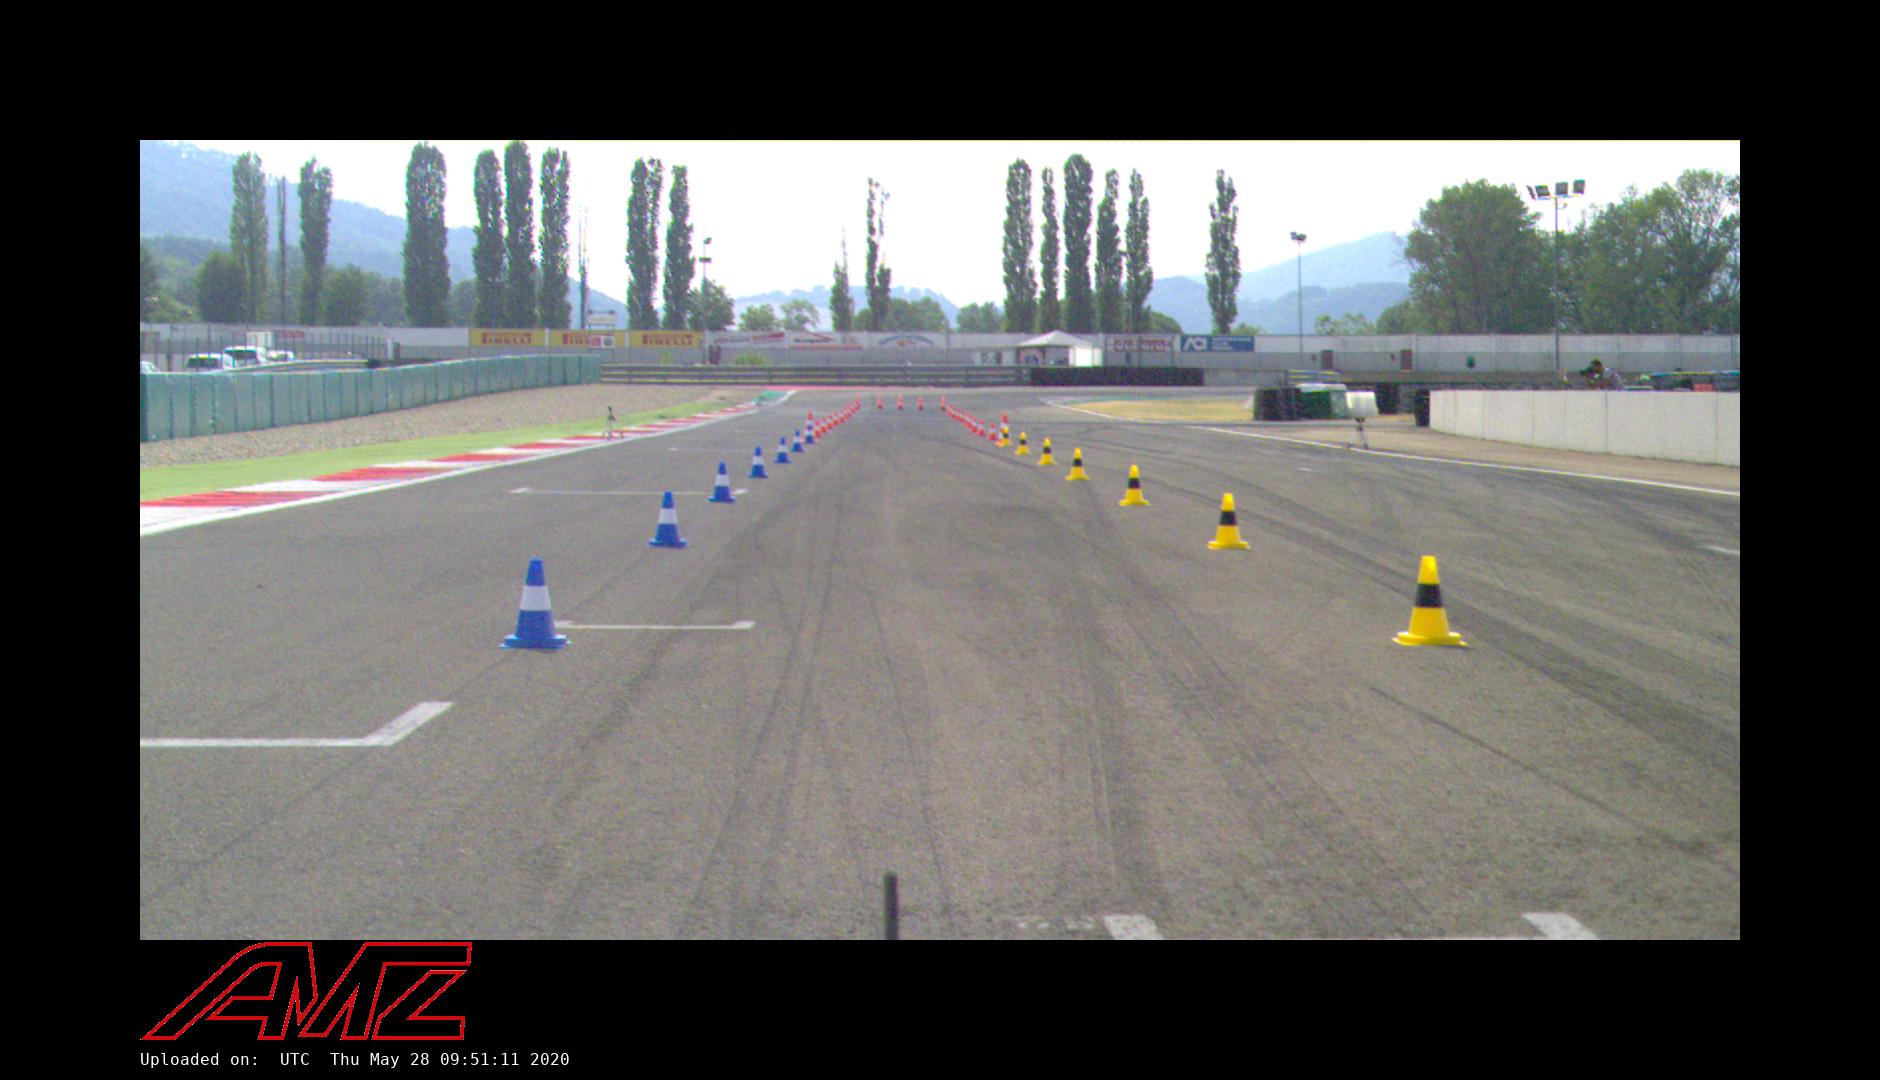blue_cone: (499, 557, 573, 651), (646, 491, 689, 549), (707, 462, 737, 503), (746, 446, 770, 478), (773, 436, 793, 464), (790, 430, 806, 453), (802, 423, 817, 444)
large_orange_cone: (995, 414, 1014, 446), (800, 411, 818, 442), (896, 393, 904, 410), (917, 394, 925, 411), (876, 394, 884, 409), (940, 395, 947, 411)
yellow_cone: (1390, 555, 1468, 648), (1207, 493, 1252, 551), (1118, 463, 1150, 507), (1065, 447, 1092, 482), (1037, 438, 1058, 466), (1015, 432, 1032, 455), (998, 427, 1014, 447)
